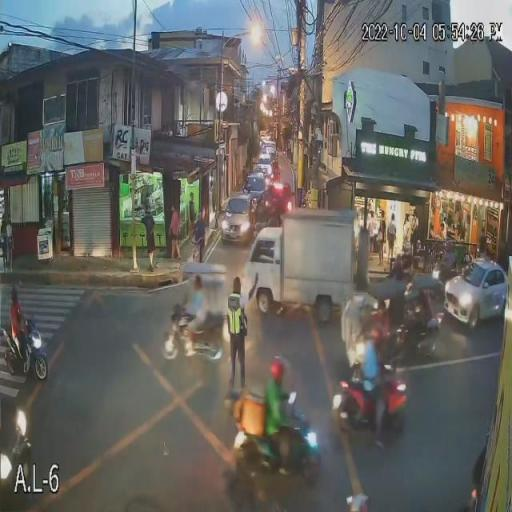helmet: (264, 353, 292, 382), (4, 280, 27, 306), (364, 325, 389, 346)
motorcycle: (219, 388, 331, 484), (337, 371, 408, 432), (2, 311, 50, 381)
rider: (261, 382, 309, 476), (355, 346, 395, 457), (5, 303, 35, 370)
